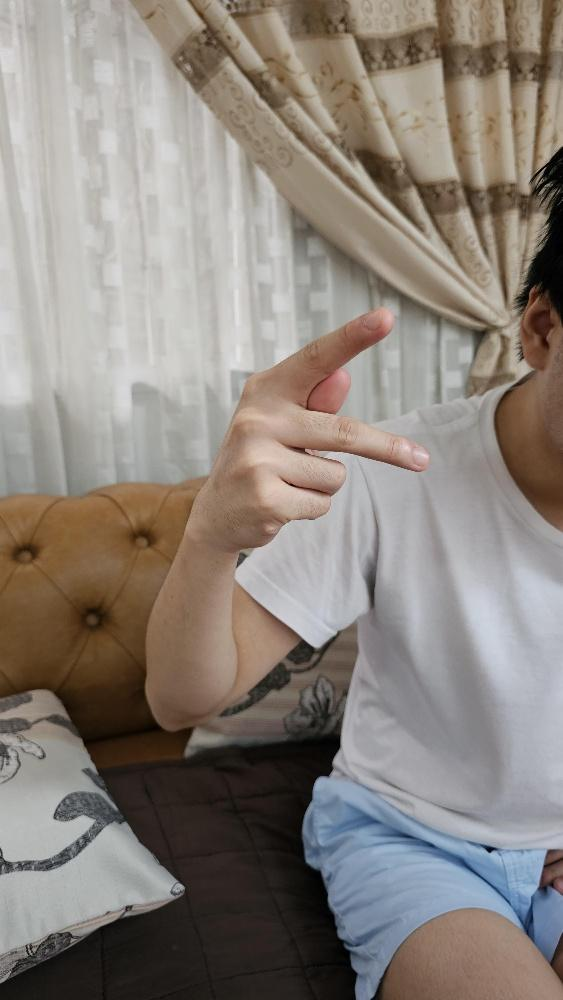k: (198, 303, 431, 549)
